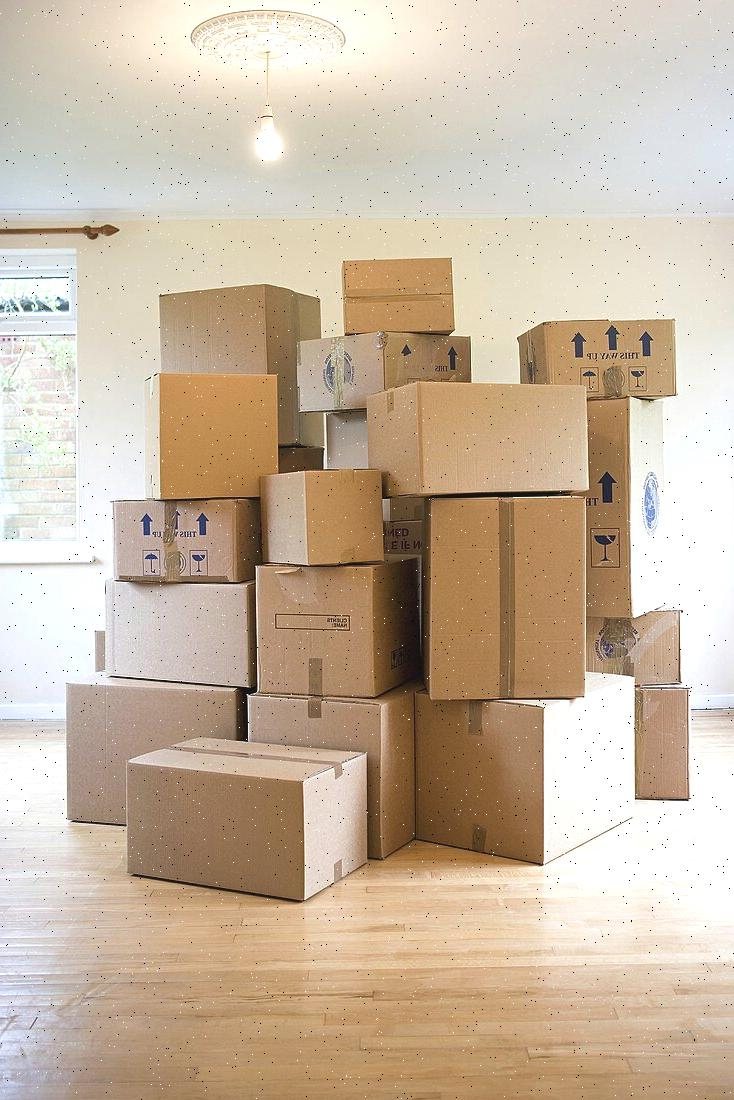Box: (416, 672, 635, 864), (126, 737, 367, 900), (422, 496, 586, 698), (246, 681, 422, 859), (66, 672, 246, 825), (367, 382, 588, 496), (257, 556, 420, 696), (160, 284, 300, 445), (586, 397, 665, 619), (145, 372, 279, 501), (105, 580, 257, 688), (517, 320, 675, 400), (114, 500, 261, 582), (259, 468, 383, 565), (343, 258, 455, 334), (586, 606, 682, 685), (635, 683, 691, 799)
